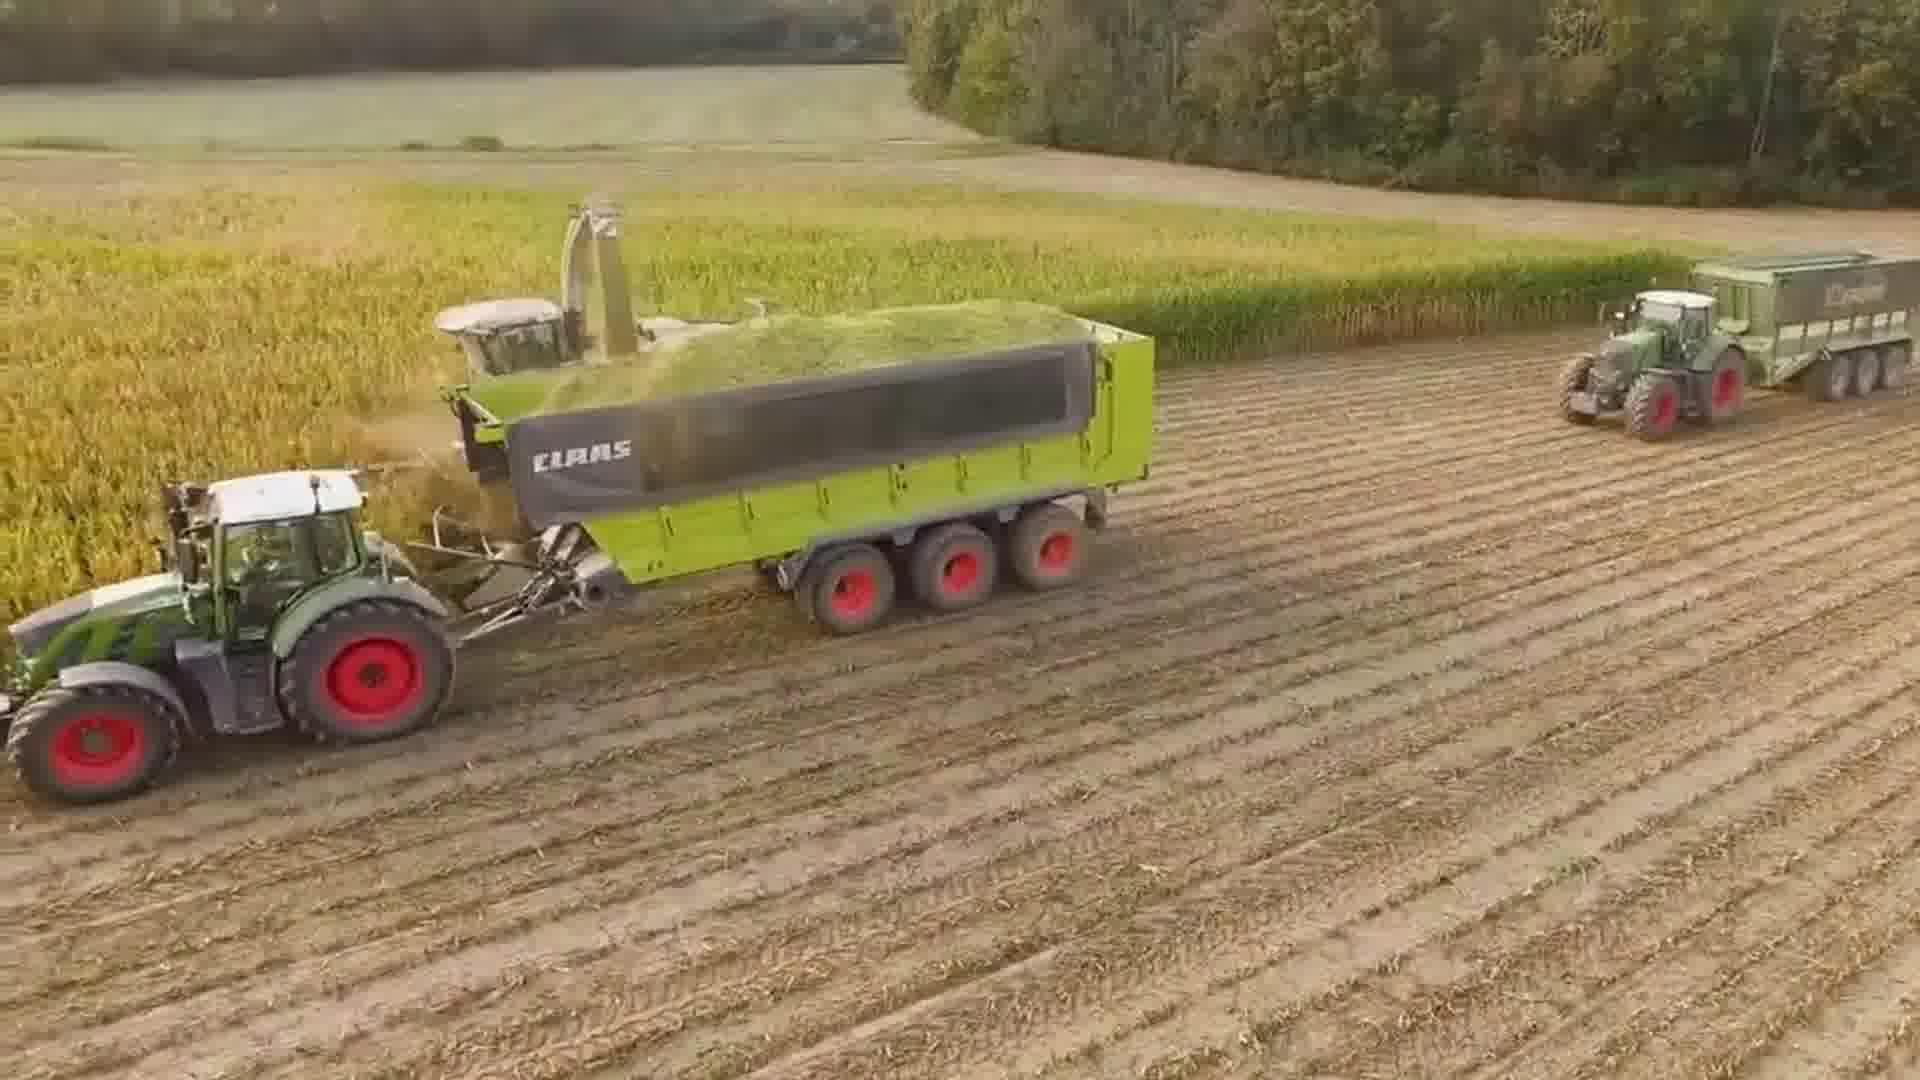combine harvester: (433, 189, 676, 377)
tractor: (3, 457, 467, 809), (1553, 279, 1751, 446)
trailer: (441, 299, 1169, 646), (1687, 241, 1920, 406)
